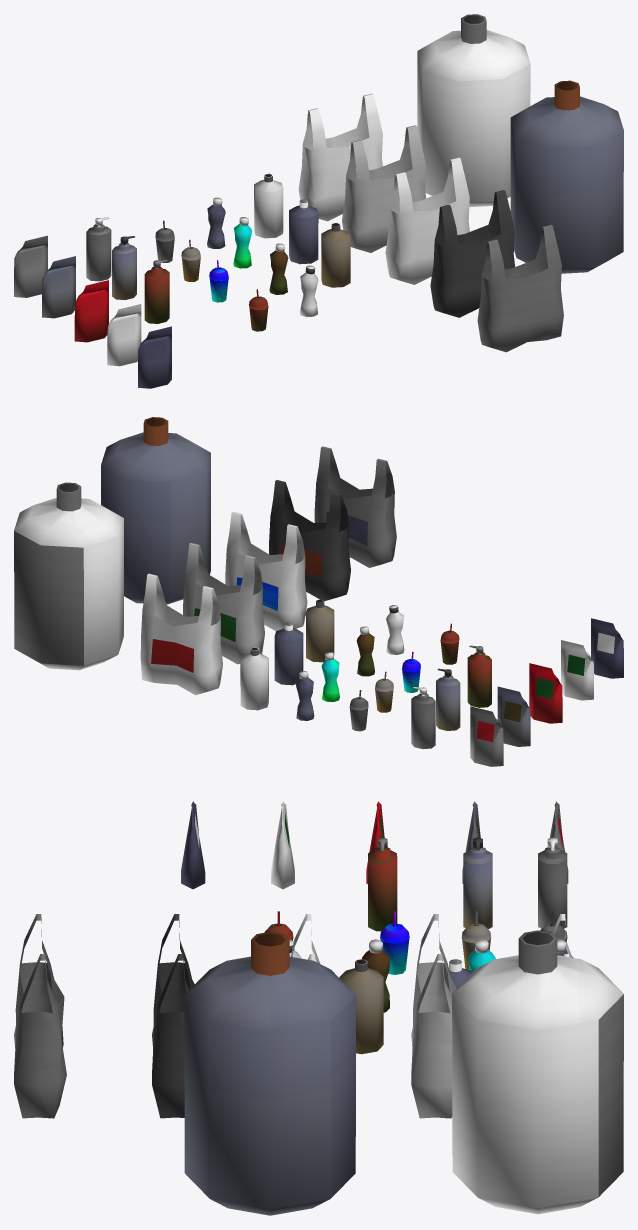
File: Plastic Trash.fbx
The picture shows the model from 3 angles, top to bottom: view 1: azimuth 30°, elevation 25°; view 2: azimuth 150°, elevation 25°; view 3: azimuth 270°, elevation 25°; orthographic projection. The views are drawn at different scales.
Parts seen in each view (by area): view 1: Circle.015, Circle.012, Plane.014, Plane.013, Plane.012, Plane.011, Plane, Circle.026, Circle.027, Circle.028, Circle.025, Circle.009 (+14 smaller); view 2: Circle.012, Circle.015, Plane, Plane.014, Plane.013, Plane.012, Plane.011, Circle.009, Circle.026, Circle.027, Circle.028, Circle.025 (+14 smaller); view 3: Circle.012, Circle.015, Plane.014, Plane.011, Plane.013, Circle.018, Circle.023, Circle.022, Circle.005, Circle.028, Circle.027, Circle.021 (+2 smaller).
Boxes of the visible parts, bbox=[...] form: Circle.015: bbox=[510, 80, 623, 273]; Circle.012: bbox=[417, 14, 530, 207]; Plane.014: bbox=[477, 224, 563, 352]; Plane.013: bbox=[430, 190, 515, 317]; Plane.012: bbox=[385, 157, 469, 284]; Plane.011: bbox=[342, 125, 426, 252]; Plane: bbox=[298, 93, 382, 221]; Circle.026: bbox=[74, 280, 108, 342]; Circle.027: bbox=[107, 304, 141, 366]; Circle.028: bbox=[138, 326, 171, 388]; Circle.025: bbox=[42, 256, 75, 318]; Circle.009: bbox=[14, 235, 47, 297]; Circle.012: bbox=[14, 482, 123, 670]; Circle.015: bbox=[101, 417, 210, 604]; Plane: bbox=[140, 573, 222, 695]; Plane.014: bbox=[314, 446, 396, 567]; Plane.013: bbox=[269, 480, 350, 601]; Plane.012: bbox=[225, 512, 307, 630]; Plane.011: bbox=[183, 543, 264, 664]; Circle.009: bbox=[470, 706, 503, 766]; Circle.026: bbox=[529, 663, 562, 723]; Circle.027: bbox=[561, 640, 593, 700]; Circle.028: bbox=[591, 618, 623, 678]; Circle.025: bbox=[497, 686, 530, 746]; Circle.012: bbox=[452, 930, 623, 1214]; Circle.015: bbox=[184, 931, 356, 1215]; Plane.014: bbox=[14, 914, 66, 1118]; Plane.011: bbox=[411, 914, 456, 1118]; Plane.013: bbox=[152, 914, 194, 1118]; Circle.018: bbox=[339, 959, 383, 1054]; Circle.023: bbox=[368, 837, 397, 931]; Circle.022: bbox=[463, 837, 492, 929]; Circle.005: bbox=[538, 837, 567, 928]; Circle.028: bbox=[181, 801, 205, 889]; Circle.027: bbox=[271, 801, 294, 889]; Circle.021: bbox=[380, 911, 409, 974].
Bounding box in the file's own units: 284 × 91.86 × 203.
